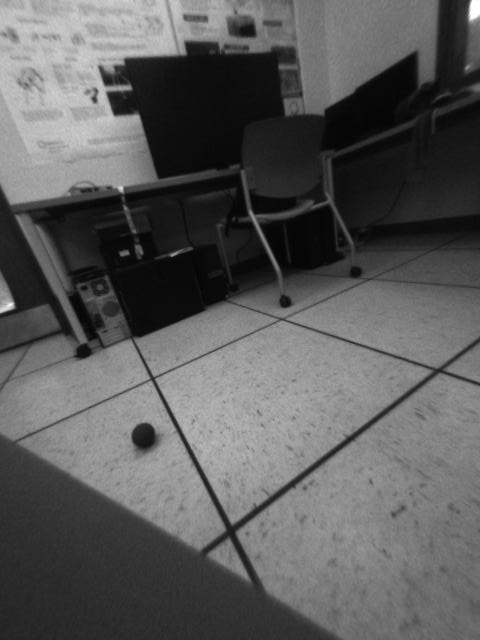dogtoy: (127, 415, 166, 454)
